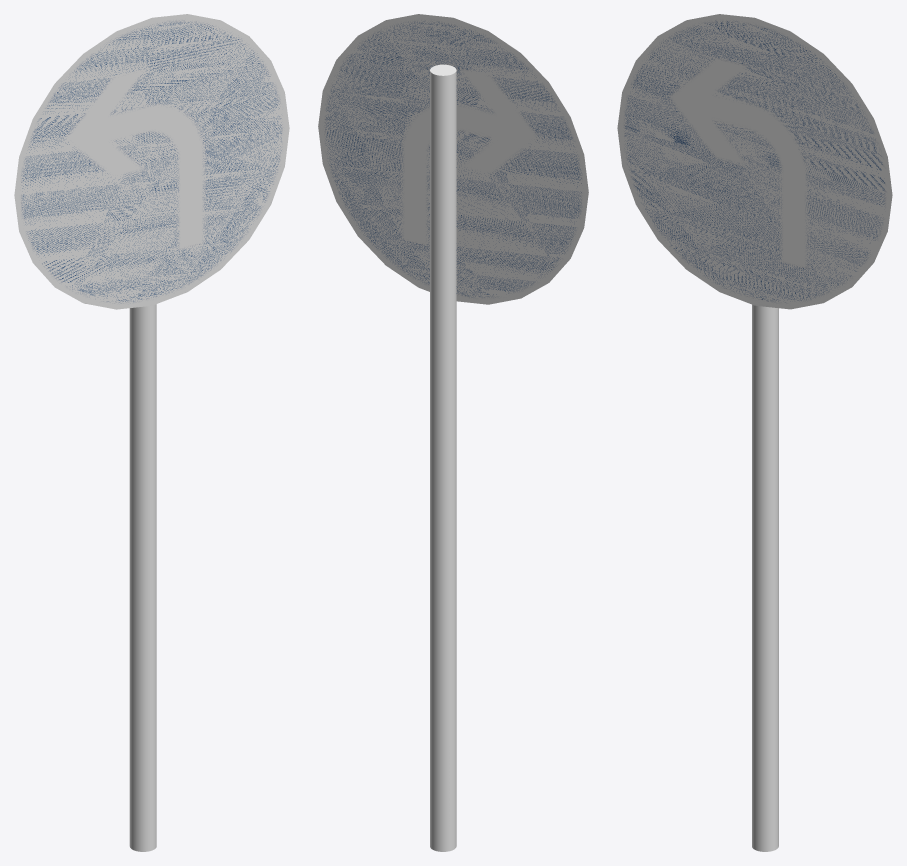
The picture shows the model from 3 angles, left to right: view 1: azimuth 30°, elevation 25°; view 2: azimuth 150°, elevation 25°; view 3: azimuth 330°, elevation 25°; orthographic projection.
Visible parts, largest first — view 1: SketchUp (×2); view 2: SketchUp (×2); view 3: SketchUp (×2).
Boxes of the visible parts, x1=… form: SketchUp (×2): x1=14, y1=14, x2=289, y2=851; SketchUp (×2): x1=318, y1=14, x2=588, y2=851; SketchUp (×2): x1=617, y1=14, x2=892, y2=851.
Bounding box in the file's own units: 74.02 × 7.6 × 215.
Materials: 2 (1 with a texture image).
